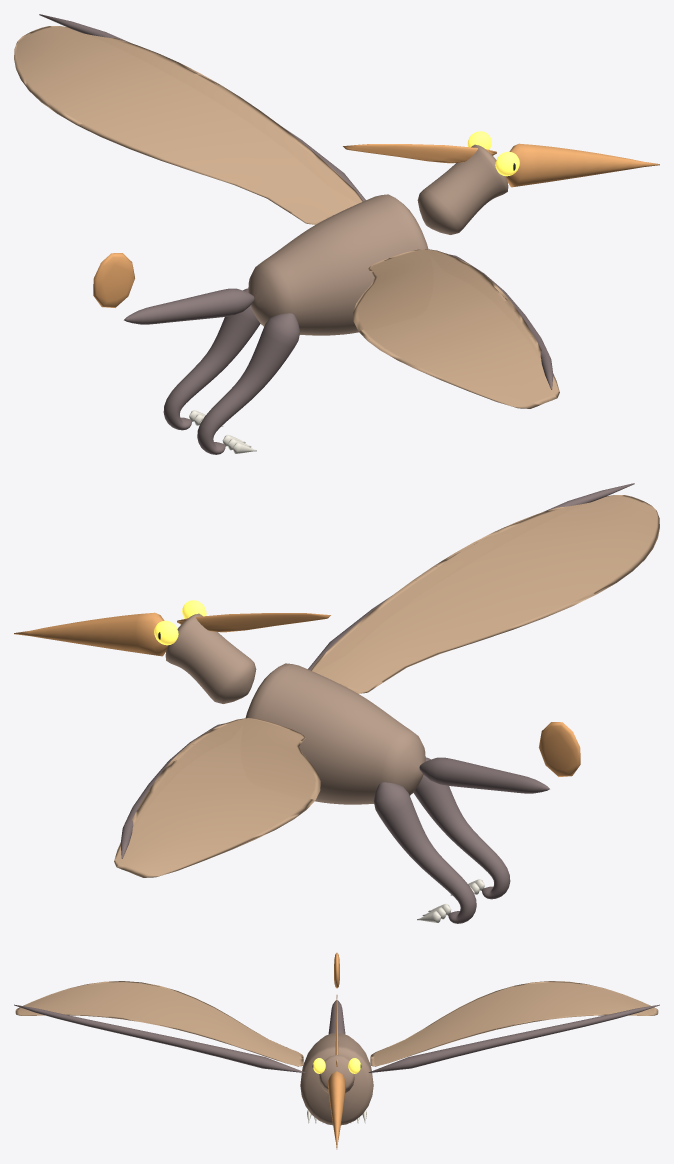
The model's file is bird_pterosaur.glb.
The picture shows the model from 3 angles, top to bottom: view 1: azimuth 30°, elevation 25°; view 2: azimuth 150°, elevation 25°; view 3: azimuth 270°, elevation 25°; orthographic projection. The views are drawn at different scales.
Parts seen in each view (by area): view 1: WingPivot0_Membrane, WingPivot1_Membrane, Ptero_Body, Ptero_Neck, Leg1_Limb, Ptero_Beak, Leg0_Limb, Ptero_Tail, TailVane, CranialCrest, WingPivot0_Spar, WingPivot1_Spar; view 2: WingPivot1_Membrane, WingPivot0_Membrane, Ptero_Body, Ptero_Neck, Leg0_Limb, Ptero_Beak, Leg1_Limb, Ptero_Tail, TailVane, CranialCrest, WingPivot1_Spar, WingPivot0_Spar; view 3: WingPivot0_Membrane, WingPivot1_Membrane, Ptero_Body, WingPivot0_Spar, WingPivot1_Spar, Ptero_Beak, Ptero_Neck, Ptero_Tail.
Part boxes in pixels (box(x1,y1,x2,y2)): WingPivot0_Membrane: box(14, 26, 362, 224); WingPivot1_Membrane: box(353, 249, 559, 408); Ptero_Body: box(248, 194, 428, 335); Ptero_Neck: box(417, 144, 508, 234); Leg1_Limb: box(197, 313, 300, 454); Ptero_Beak: box(505, 143, 659, 187); Leg0_Limb: box(163, 288, 260, 430); Ptero_Tail: box(124, 288, 254, 324); TailVane: box(93, 253, 134, 307); CranialCrest: box(343, 144, 496, 163); WingPivot0_Spar: box(39, 14, 365, 201); WingPivot1_Spar: box(449, 254, 553, 389); WingPivot1_Membrane: box(311, 495, 659, 693); WingPivot0_Membrane: box(114, 718, 320, 877); Ptero_Body: box(245, 663, 425, 804); Ptero_Neck: box(165, 613, 256, 703); Leg0_Limb: box(373, 782, 476, 923); Ptero_Beak: box(14, 612, 168, 656); Leg1_Limb: box(413, 757, 510, 899); Ptero_Tail: box(419, 757, 549, 793); TailVane: box(538, 722, 580, 776); CranialCrest: box(177, 613, 330, 632); WingPivot1_Spar: box(308, 483, 634, 670); WingPivot0_Spar: box(120, 723, 224, 858); WingPivot0_Membrane: box(370, 981, 658, 1066); WingPivot1_Membrane: box(15, 981, 303, 1066); Ptero_Body: box(300, 1033, 373, 1125); WingPivot0_Spar: box(368, 1004, 659, 1072); WingPivot1_Spar: box(14, 1004, 305, 1072); Ptero_Beak: box(328, 1071, 345, 1149); Ptero_Neck: box(319, 1055, 354, 1092); Ptero_Tail: box(328, 1000, 345, 1034).
Bounding box in the file's own units: 2.34 × 1.03 × 3.66.
